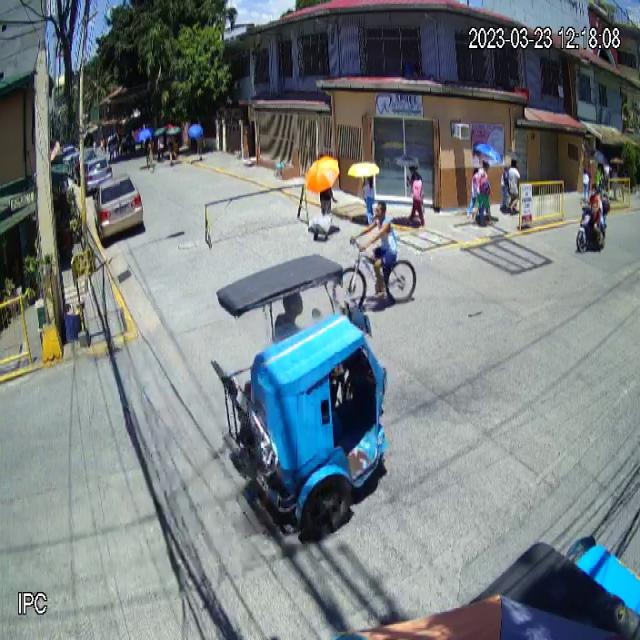Car: (92, 174, 144, 243)
Tricycle: (212, 252, 388, 542)
